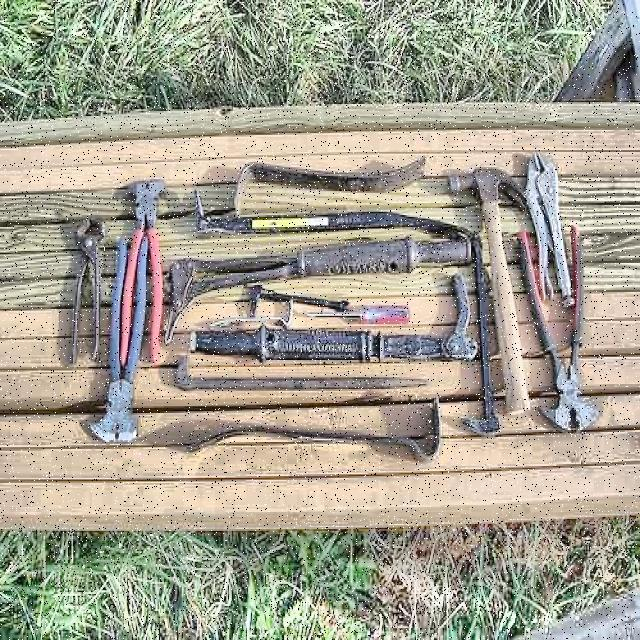hammer: (448, 168, 536, 410)
